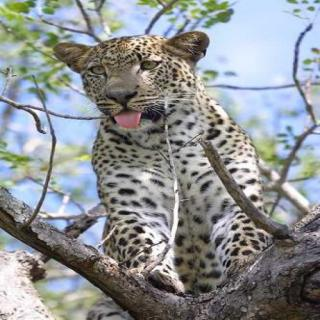Leopard: (35, 12, 279, 306)
